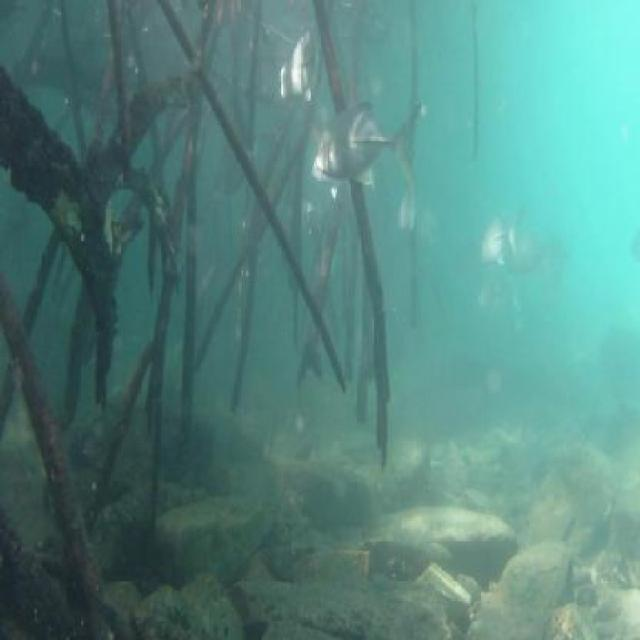Caranx_sexfasciatus_juvenile: (316, 88, 422, 188), (288, 144, 378, 216), (268, 25, 320, 120), (388, 176, 441, 250), (506, 233, 566, 287), (471, 209, 520, 273), (470, 272, 525, 328)
